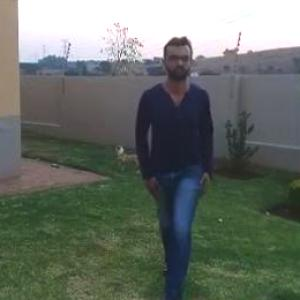follow: (129, 33, 211, 299)
